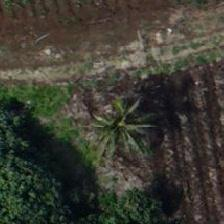Kelapa_Sawit: (74, 83, 164, 173)
